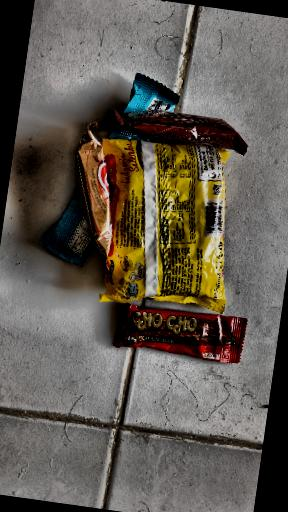chocho: (97, 297, 265, 395)
indomie: (93, 142, 260, 307)
